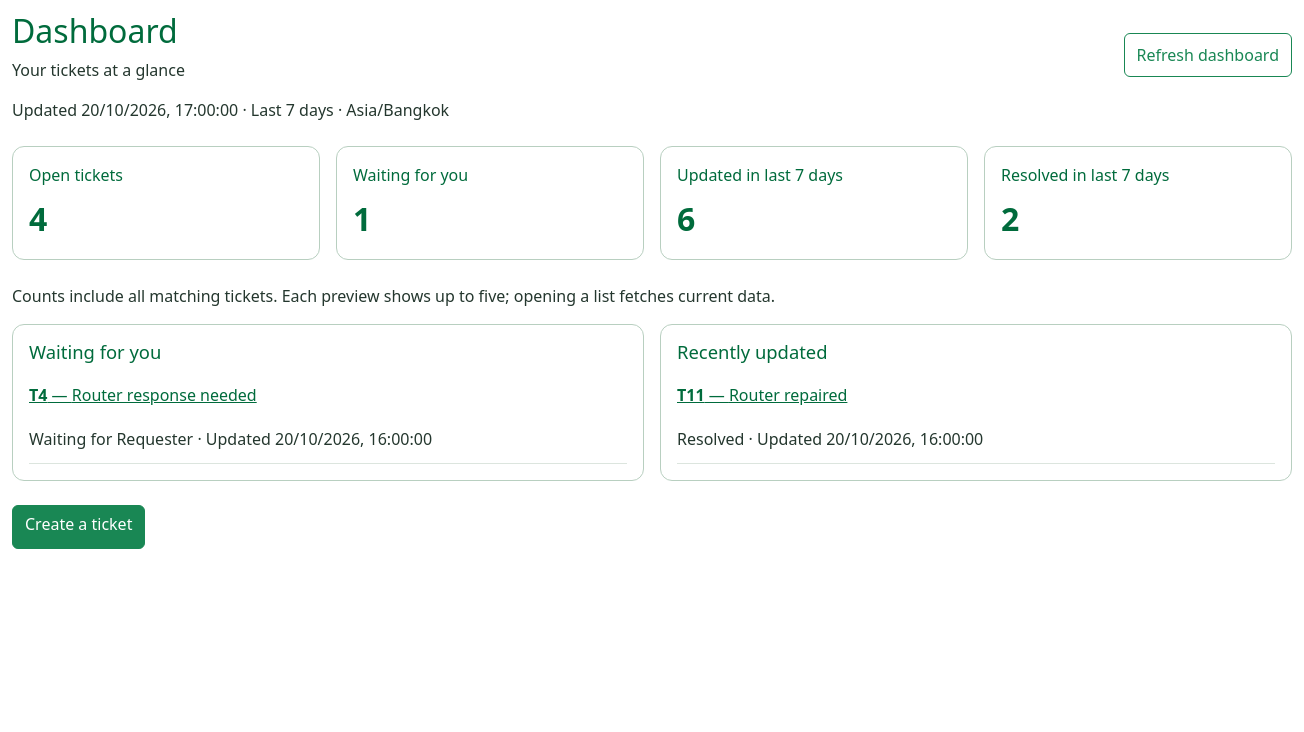
Test case: Requester dashboard (UI-07) › clears previously rendered data after HTTP 401 and updates authentication
The width and height of the screenshot is (1304, 732).
Expected: the link "Open tickets 4" is shown, [12,146,320,260]
Click the button "Refresh dashboard". click: (1208, 55)
box: [1124,33,1292,77]
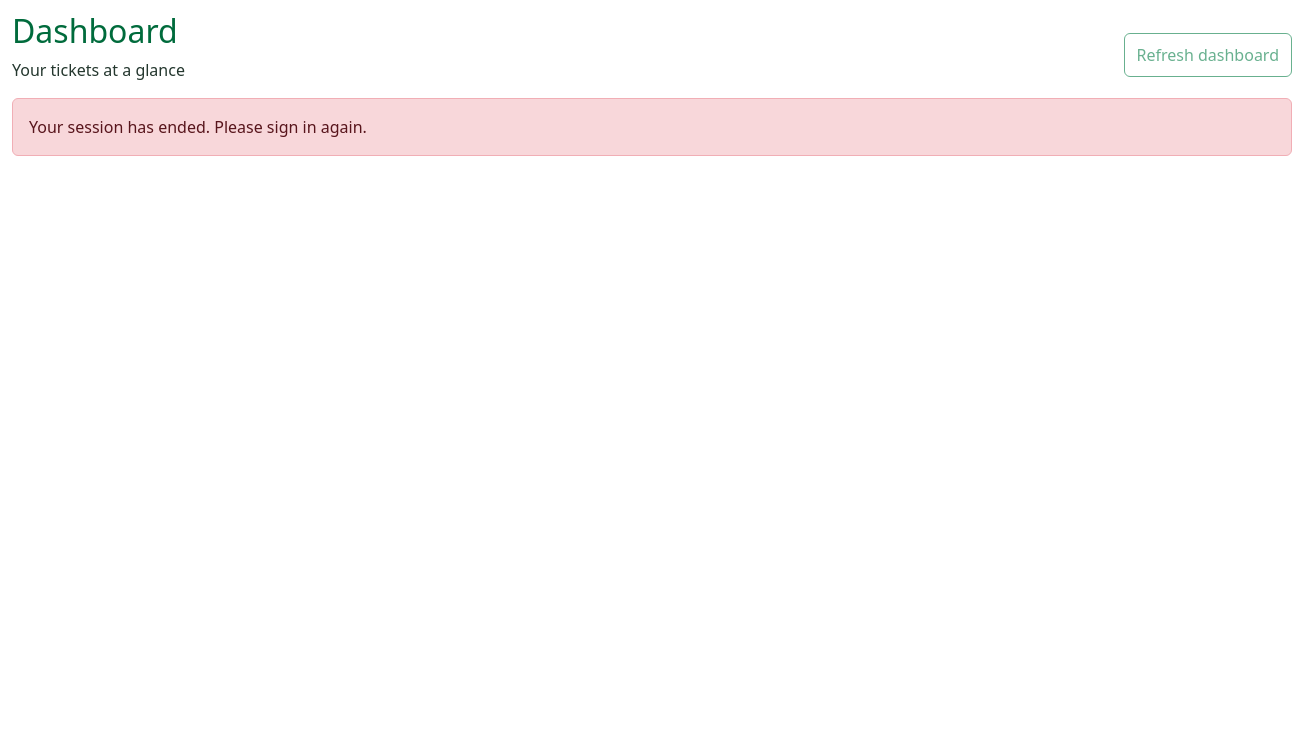
Result: the message "Your session has ended. Please sign in again." is shown at [12,98,1292,156]
Result: the link "Open tickets 4" is gone
